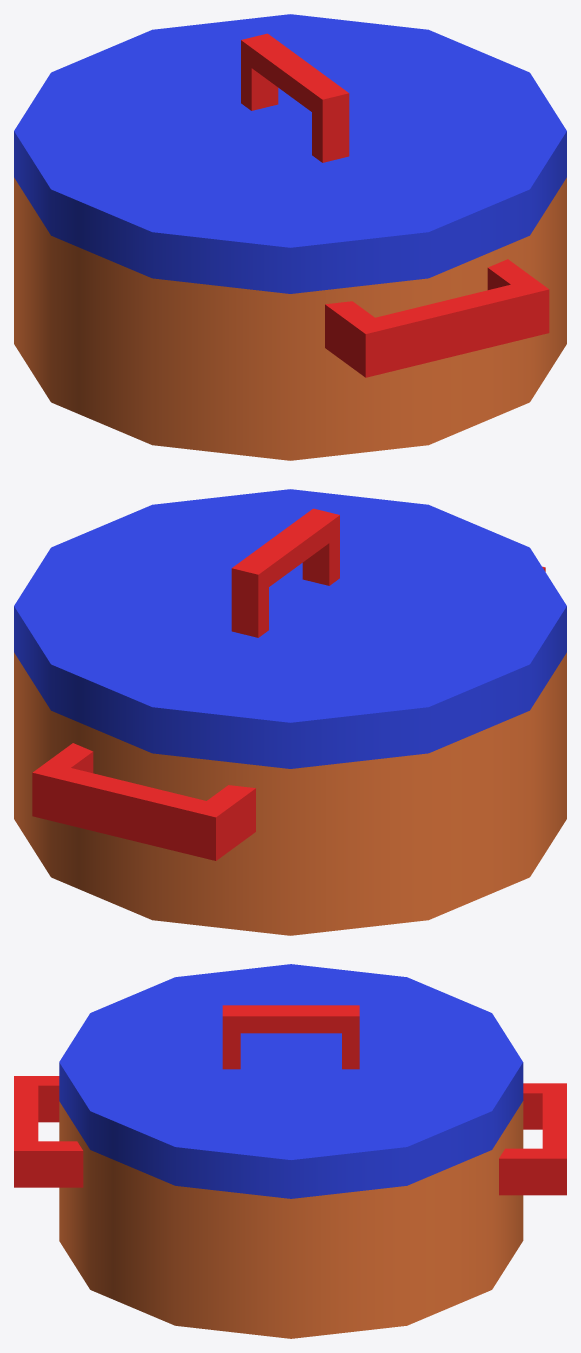
Rendered from noi luoc mi spaghetti.FBX.
3 renders of one model, top to bottom at view 1: azimuth 30°, elevation 25°; view 2: azimuth 150°, elevation 25°; view 3: azimuth 270°, elevation 25°, orthographic. The views are drawn at different scales.
Visible parts, largest first — view 1: Noi; view 2: Noi; view 3: Noi.
Boxes of the visible parts, x1,y1,x2,y2 form: Noi: [14, 14, 566, 460]; Noi: [14, 489, 566, 935]; Noi: [14, 964, 566, 1338].
Size of the model in its own units: 1.53 by 0.844 by 1.82.
